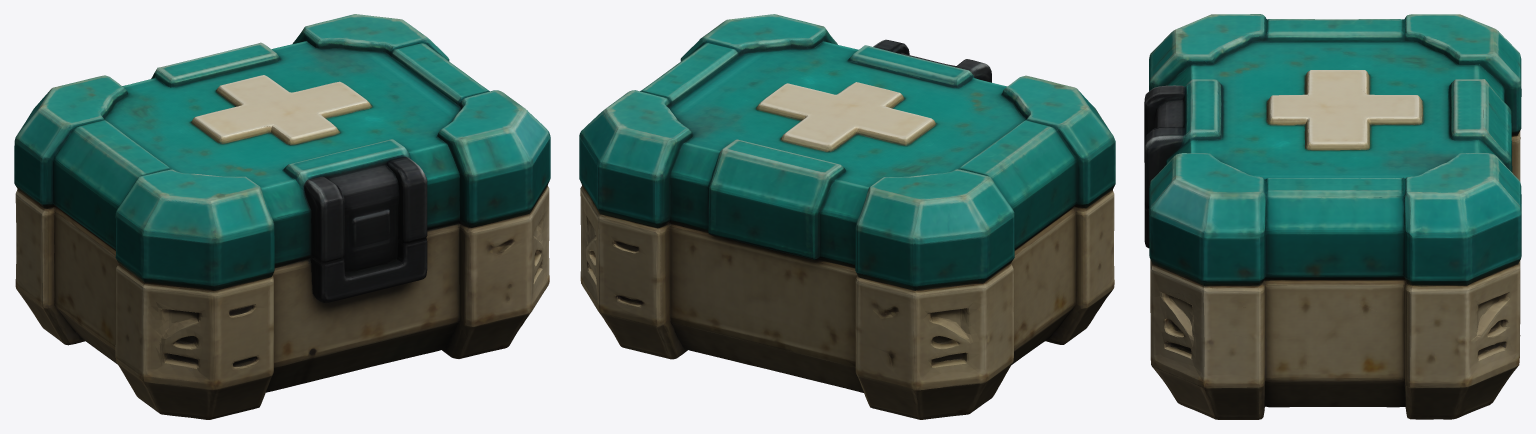
File: Medkit.glb
The picture shows the model from 3 angles, left to right: view 1: azimuth 30°, elevation 25°; view 2: azimuth 150°, elevation 25°; view 3: azimuth 270°, elevation 25°; orthographic projection. The views are drawn at different scales.
Visible parts, largest first — view 1: world; view 2: world; view 3: world.
Part boxes in pixels (<box>): world: <box>14,14,550,419</box>; world: <box>579,14,1115,419</box>; world: <box>1144,14,1521,419</box>.
Bounding box in the file's own units: 0.9998 × 0.5172 × 0.7812.
Materials: 1 (1 with a texture image).
